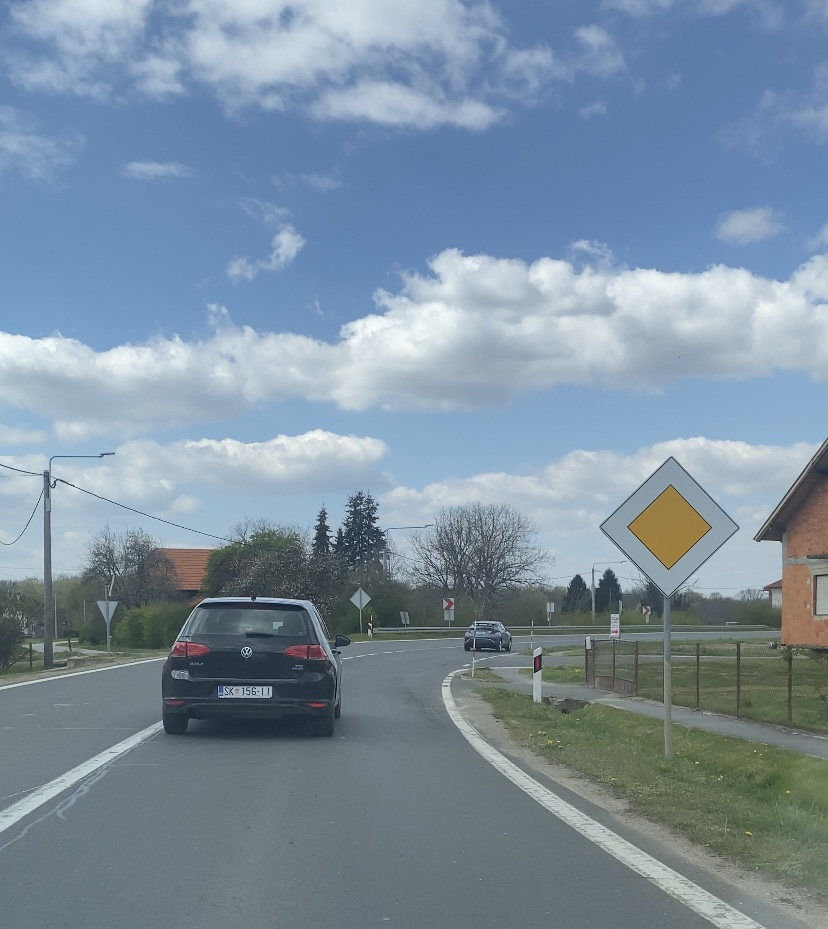Cesta s prednošću prolaska: (599, 455, 740, 598)
